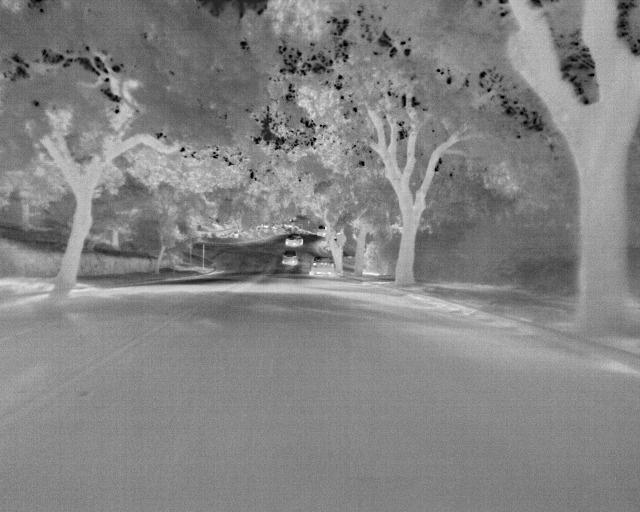car: (309, 255, 336, 279), (281, 250, 298, 265), (285, 235, 304, 247), (317, 225, 328, 236)
